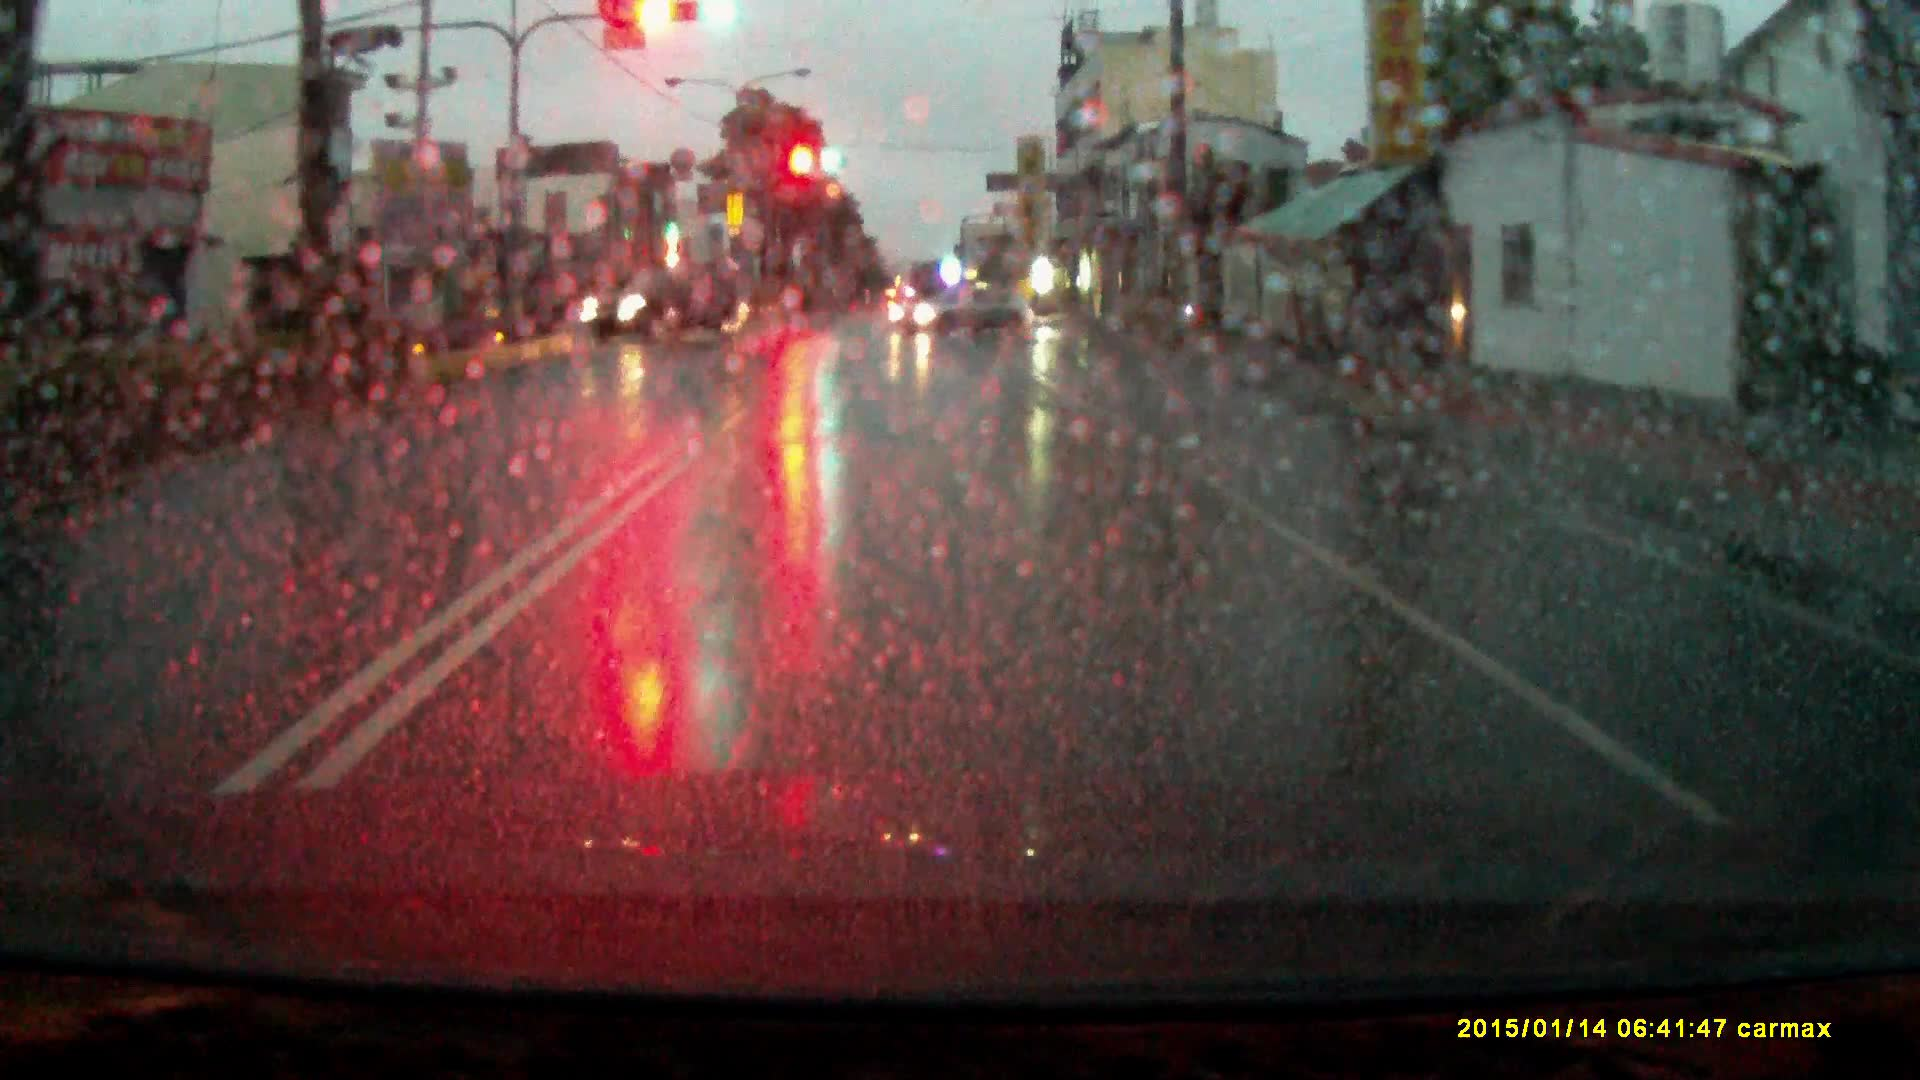vehicle: (582, 274, 752, 359), (889, 291, 1038, 344)
